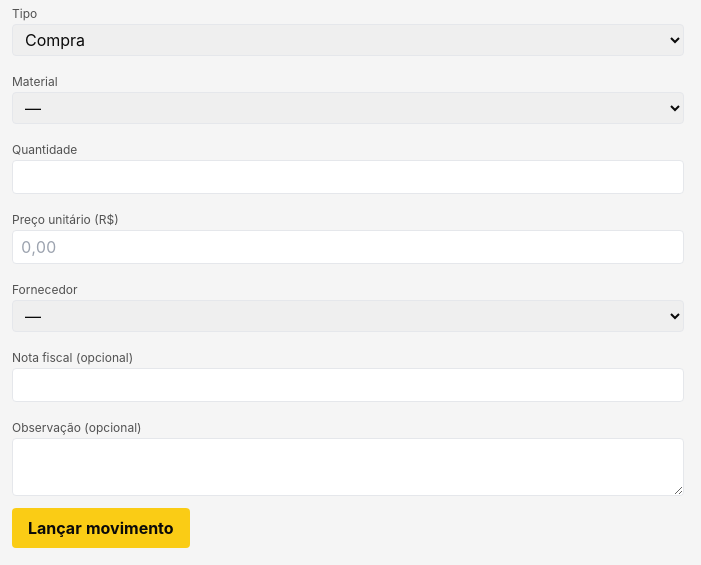
Test case: MovimentoForm › shows destino + orcamento fields when tipo=saida_obra
The width and height of the screenshot is (701, 565).
Select "Saída para obra" in the dropdown labelled "Tipo" at coordinates (348, 40), box x1=12 y1=24 x2=684 y2=56
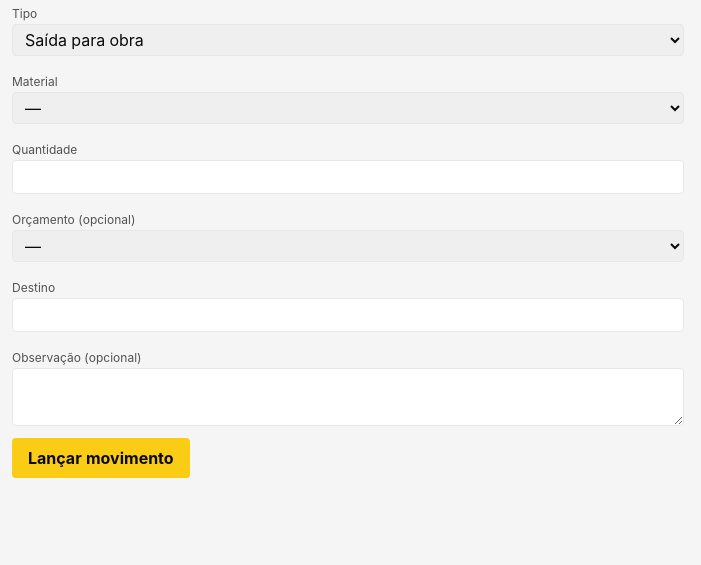
Expected: the field labelled "Destino" is shown, x1=12 y1=298 x2=684 y2=332
Expected: the dropdown labelled "Orçamento (opcional)" is shown, x1=12 y1=230 x2=684 y2=262
